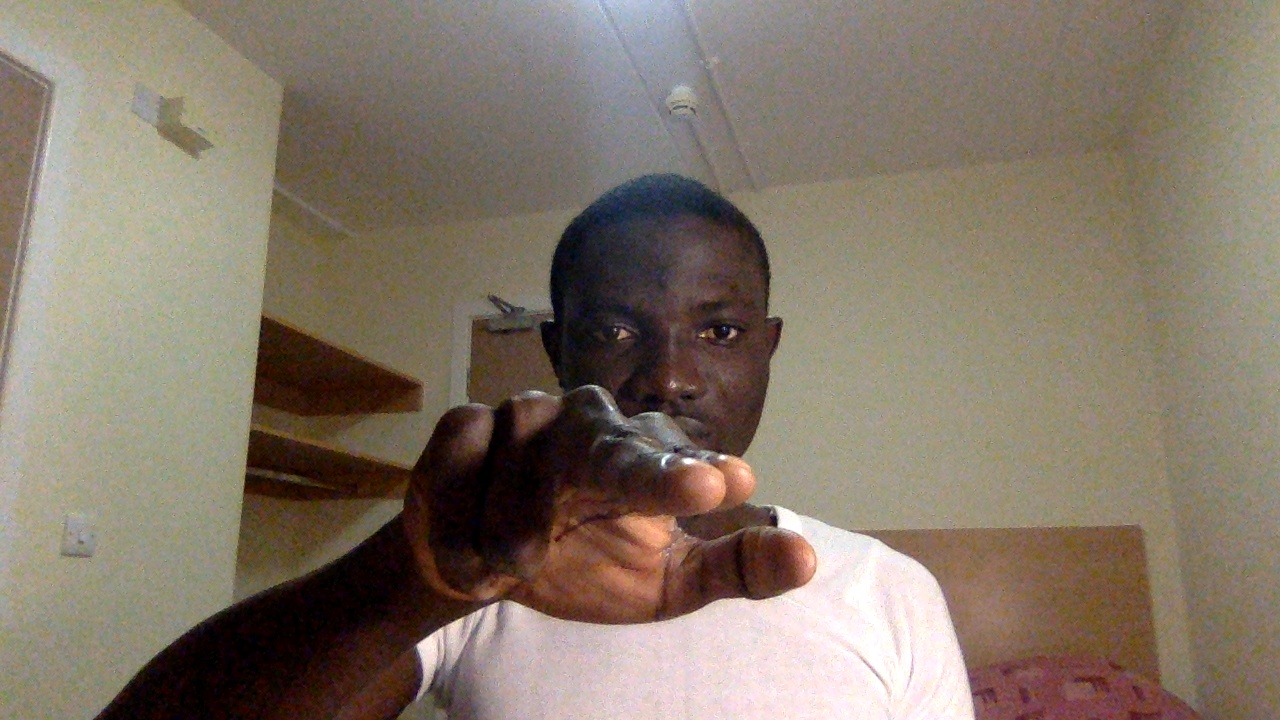No: (405, 378, 828, 638)
